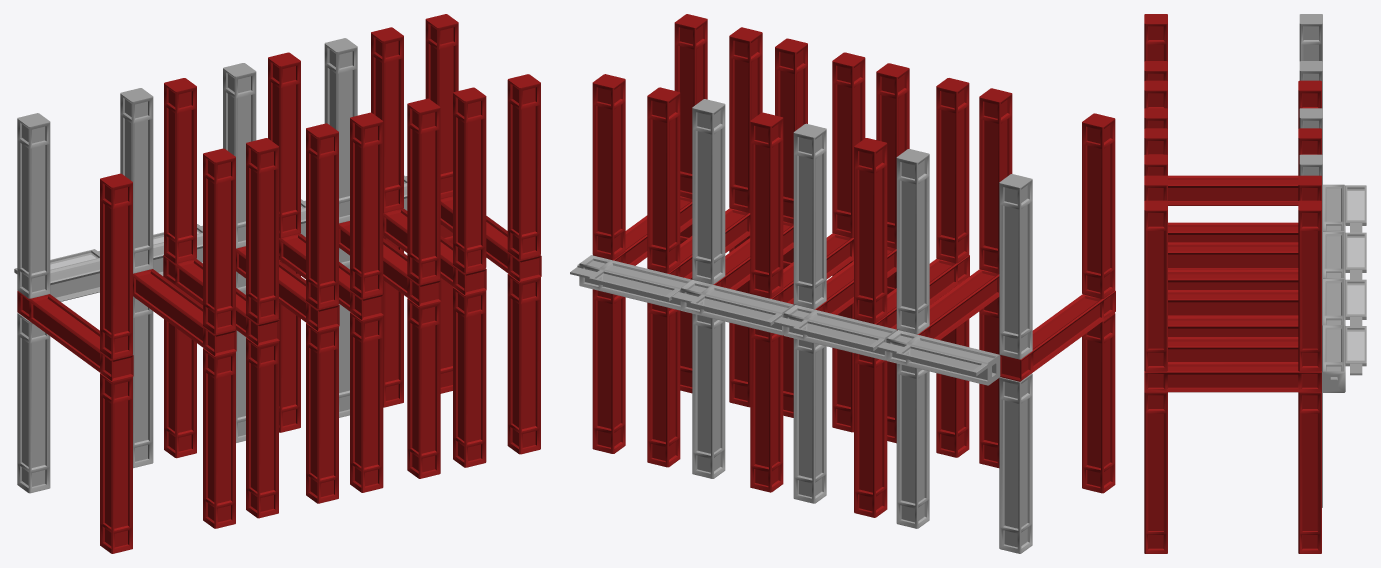
The model's file is Stage06R.fbx.
3 views of the same model, side by side, from view 1: azimuth 30°, elevation 25°; view 2: azimuth 150°, elevation 25°; view 3: azimuth 270°, elevation 25° (orthographic). The views are drawn at different scales.
Visible parts, largest first — view 1: BackFrameUnit (×8), PillarFrame (×3), PillarFrame8, ScaffoldingFrame; view 2: BackFrameUnit (×8), PillarFrame (×3), PillarFrame8, ScaffoldingFrame (×4), ScaffoldingNetFrame (×4); view 3: BackFrameUnit (×8), ScaffoldingFrame (×4), PillarFrame (×3), ScaffoldingNet (×4), ScaffoldingNetFrame (×4), PillarFrame8.
Boxes of the visible parts, bbox=[...] form: BackFrameUnit (×8): bbox=[17, 14, 541, 553]; PillarFrame (×3): bbox=[17, 38, 357, 493]; PillarFrame8: bbox=[223, 63, 256, 442]; ScaffoldingFrame: bbox=[50, 258, 99, 301]; BackFrameUnit (×8): bbox=[592, 14, 1115, 517]; PillarFrame (×3): bbox=[692, 99, 1032, 553]; PillarFrame8: bbox=[793, 123, 826, 503]; ScaffoldingFrame (×4): bbox=[577, 255, 1000, 385]; ScaffoldingNetFrame (×4): bbox=[570, 267, 987, 376]; BackFrameUnit (×8): bbox=[1144, 14, 1321, 553]; ScaffoldingFrame (×4): bbox=[1322, 184, 1345, 392]; PillarFrame (×3): bbox=[1299, 14, 1322, 507]; ScaffoldingNet (×4): bbox=[1347, 189, 1364, 360]; ScaffoldingNetFrame (×4): bbox=[1345, 185, 1366, 375]; PillarFrame8: bbox=[1299, 108, 1322, 154].
Size of the model in its own units: 2000 by 943 by 1607.
